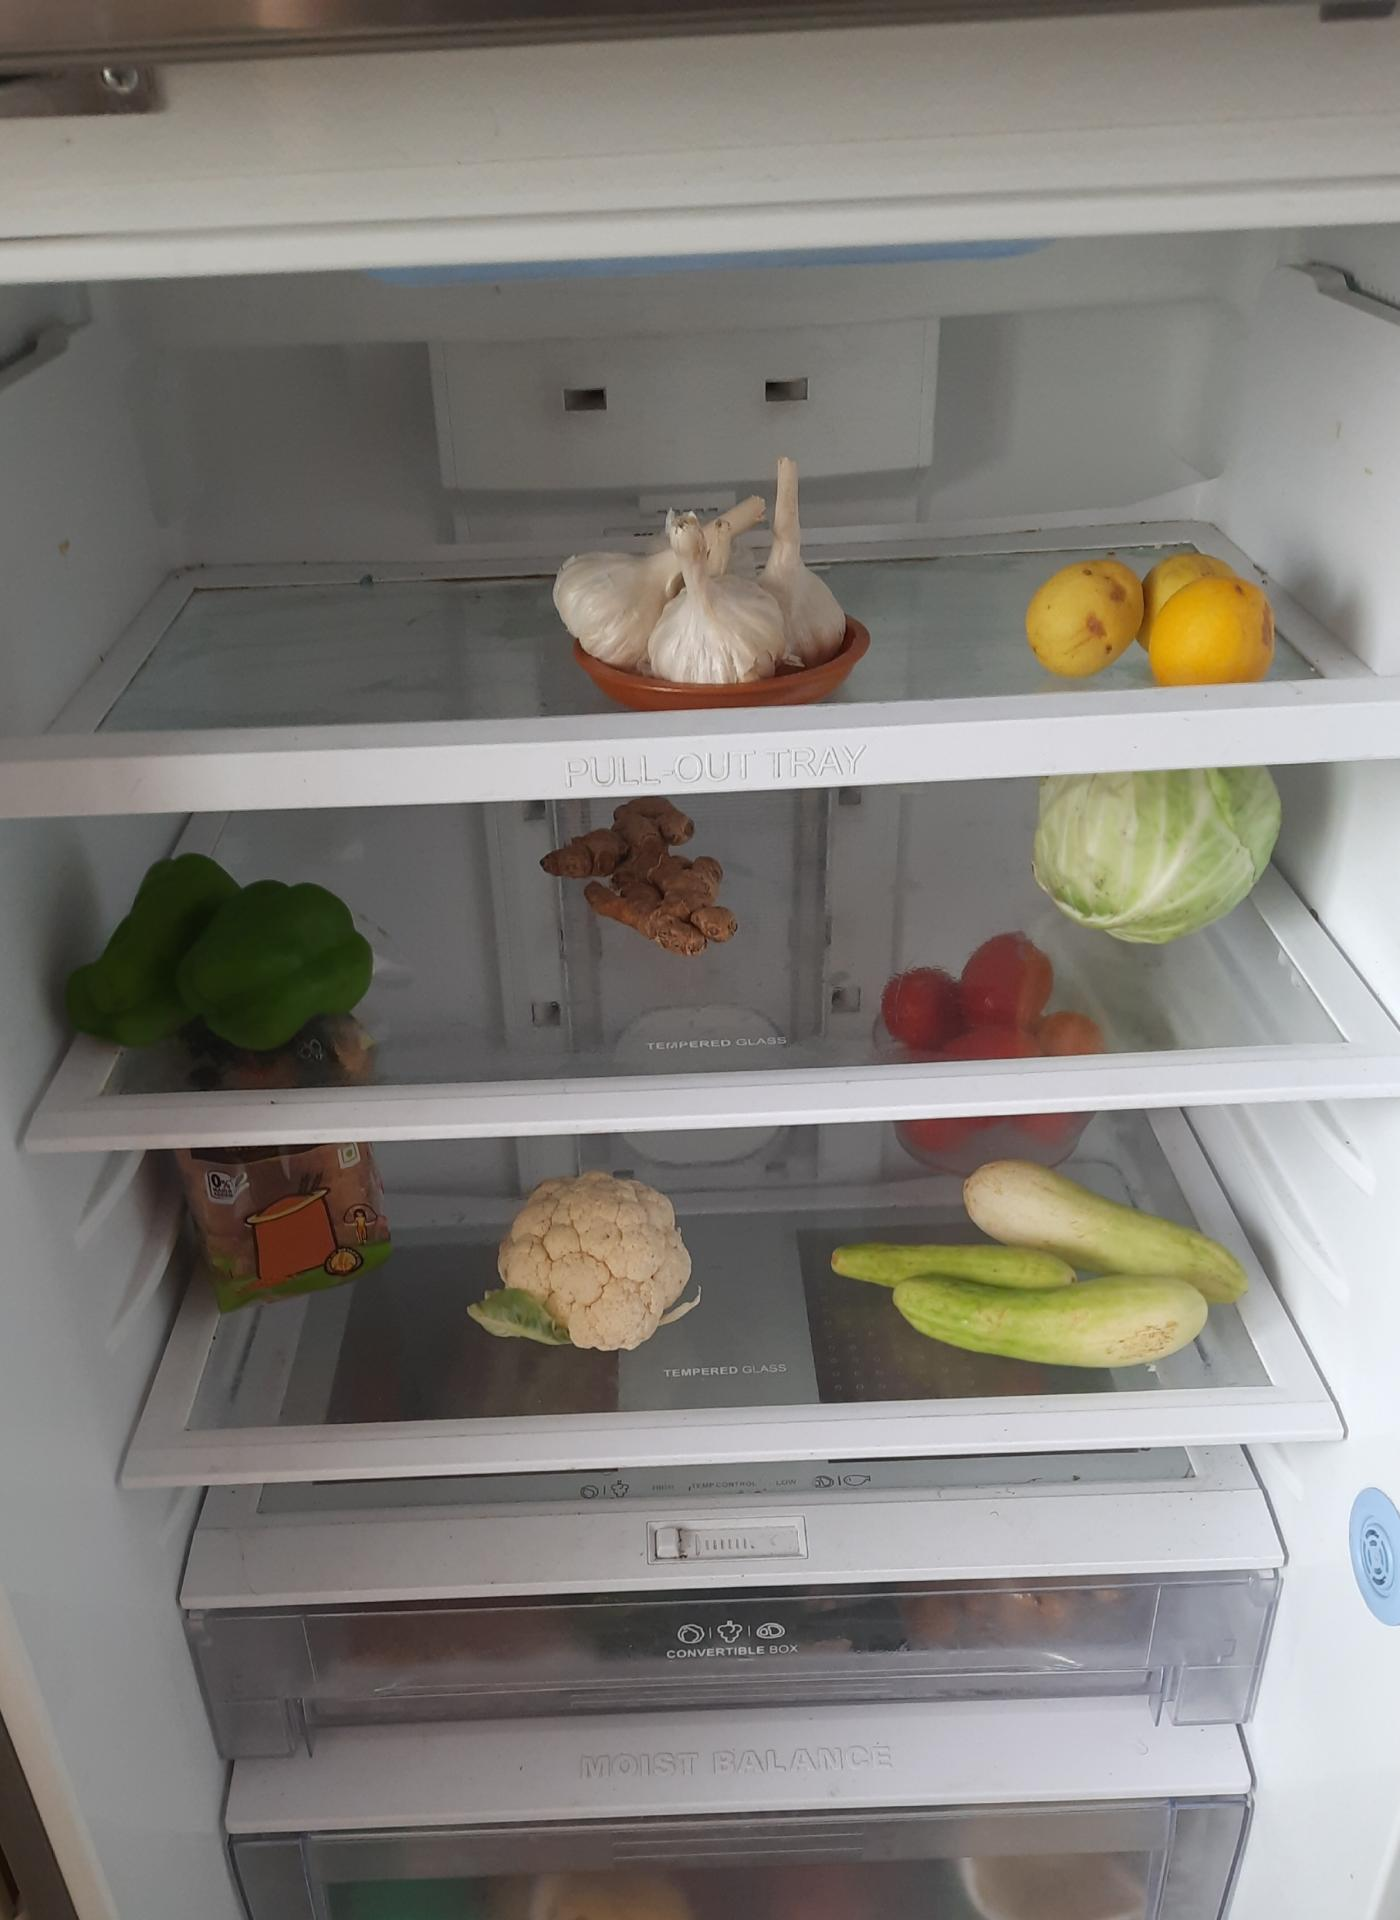bread: (174, 1146, 400, 1297)
cabbage: (1027, 756, 1333, 957)
capsicum: (60, 842, 397, 1070)
cauliflower: (479, 1172, 738, 1361)
cucumber: (833, 1175, 1257, 1388)
garlic: (547, 496, 869, 704)
ginger: (541, 806, 748, 950)
lemon: (1042, 529, 1296, 702)
tomato: (892, 942, 1132, 1155)
